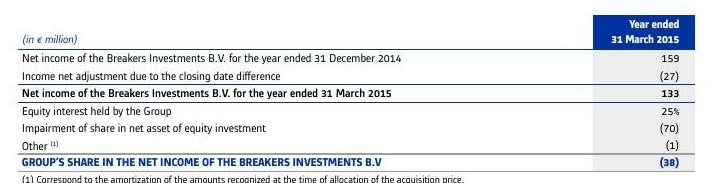table: (0, 0, 711, 183)
